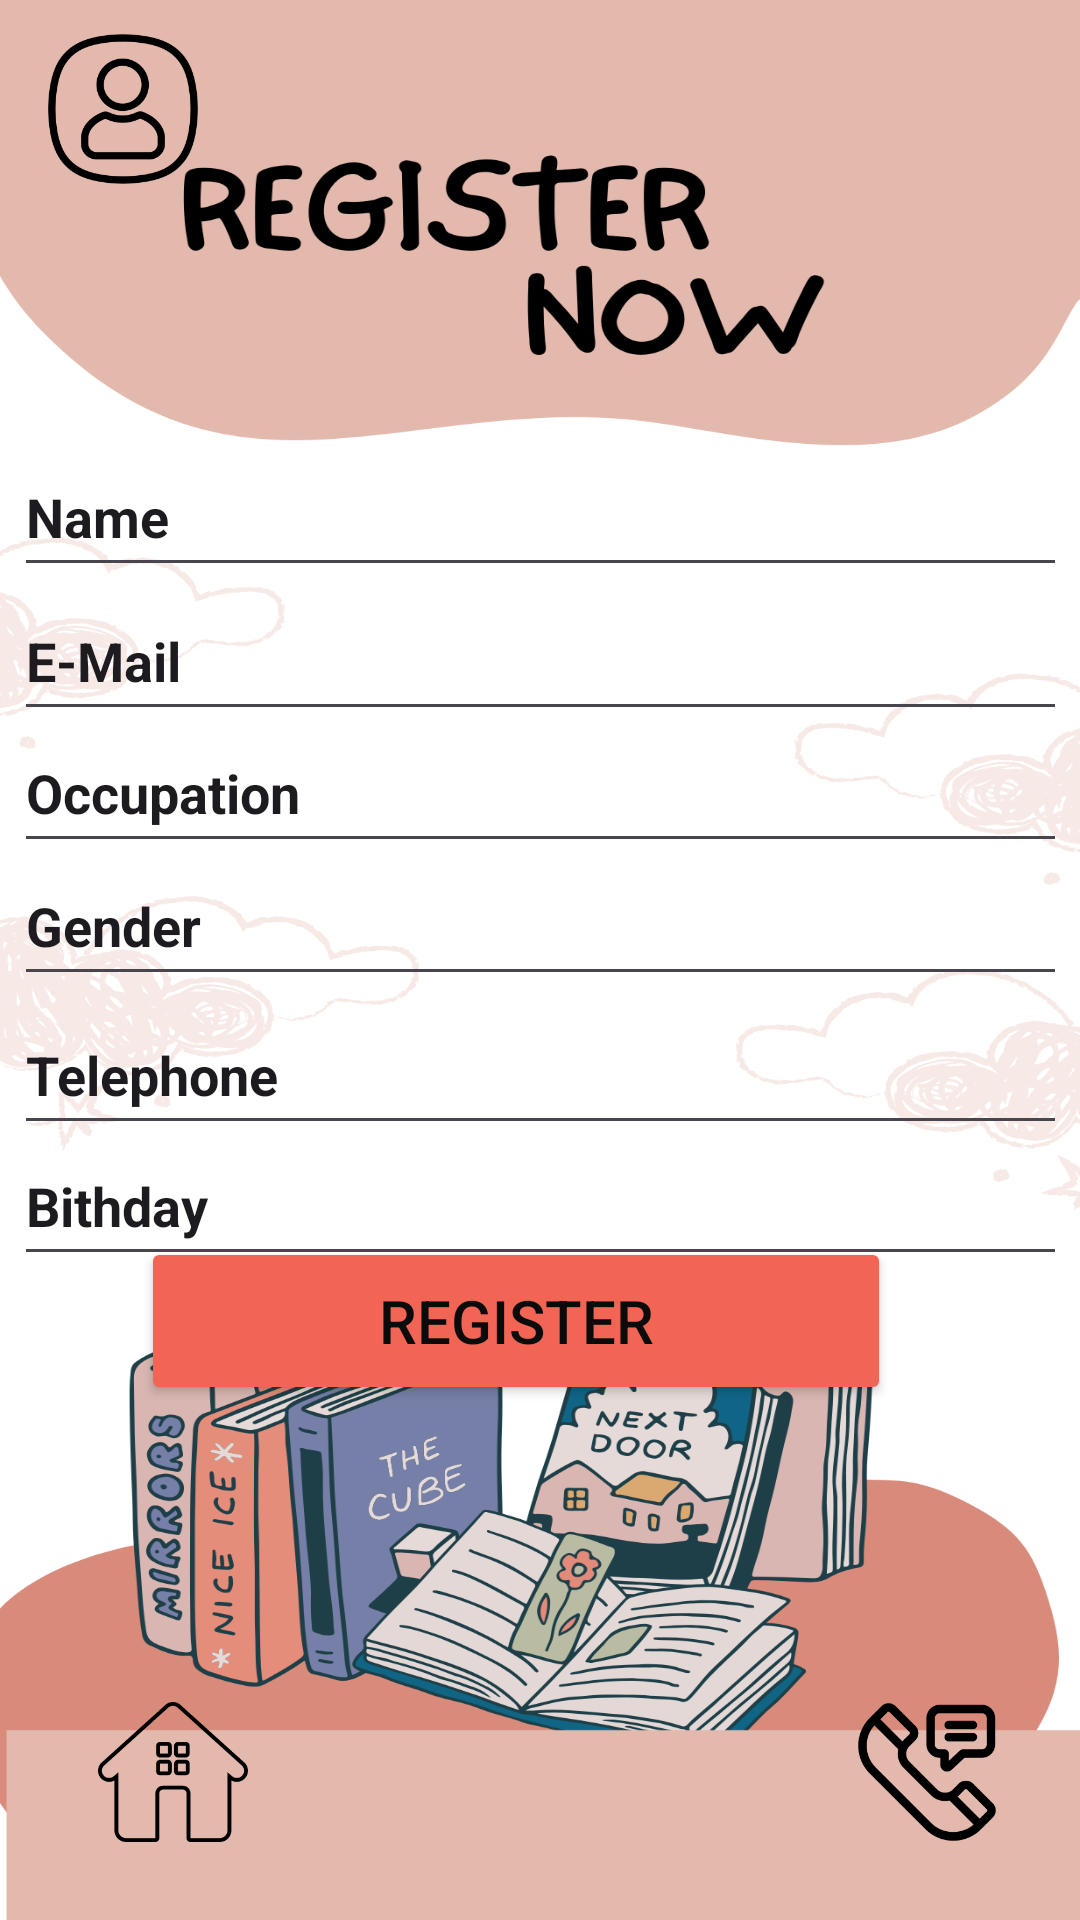

Where icons sit on this 1080px x 1920px app screen, as (x1, y1, x2, y2):
acc: (48, 34, 198, 184)
homee: (98, 1697, 248, 1842)
